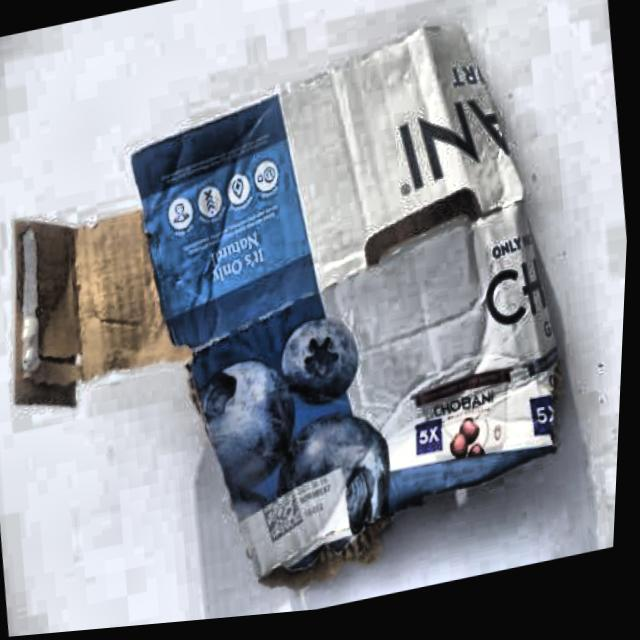Cardbox: (0, 0, 611, 640)
